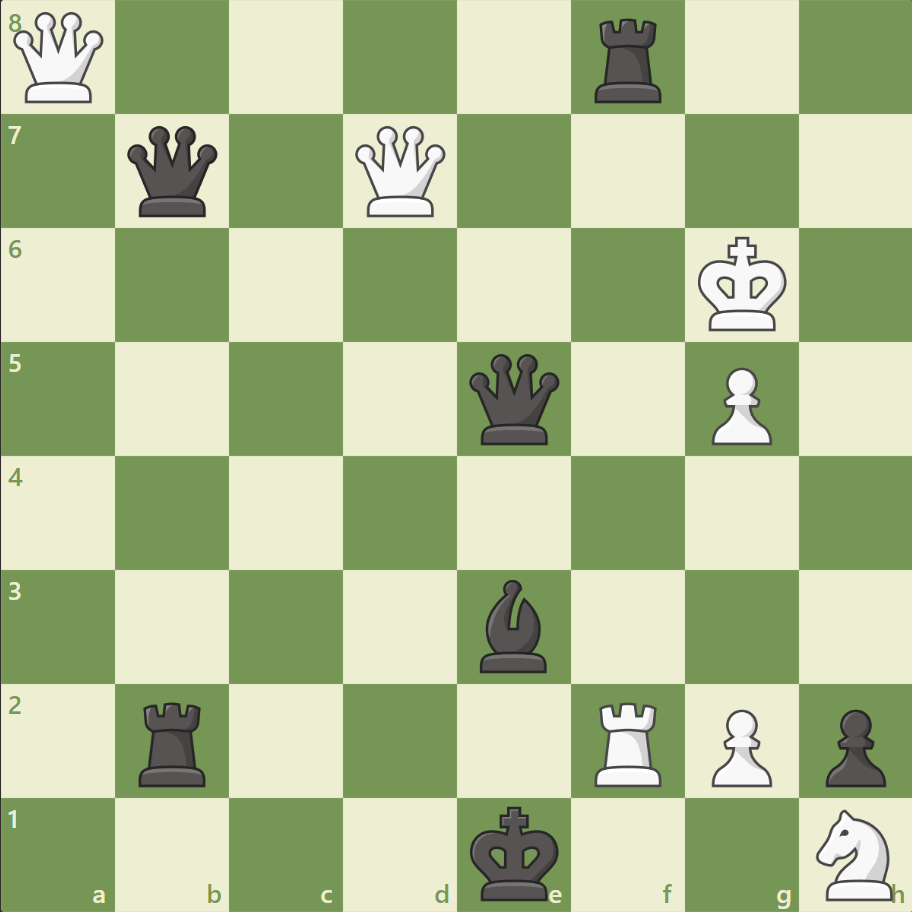K: (692, 231, 792, 339)
N: (806, 802, 903, 904)
P: (701, 359, 776, 450), (701, 700, 776, 791)
Q: (351, 122, 450, 222), (10, 9, 109, 108)
R: (587, 693, 670, 790)
b: (471, 574, 555, 676)
k: (465, 798, 565, 906)
p: (815, 700, 889, 791)
q: (124, 122, 223, 222), (464, 349, 563, 449)
r: (587, 12, 670, 109), (133, 693, 215, 790)
